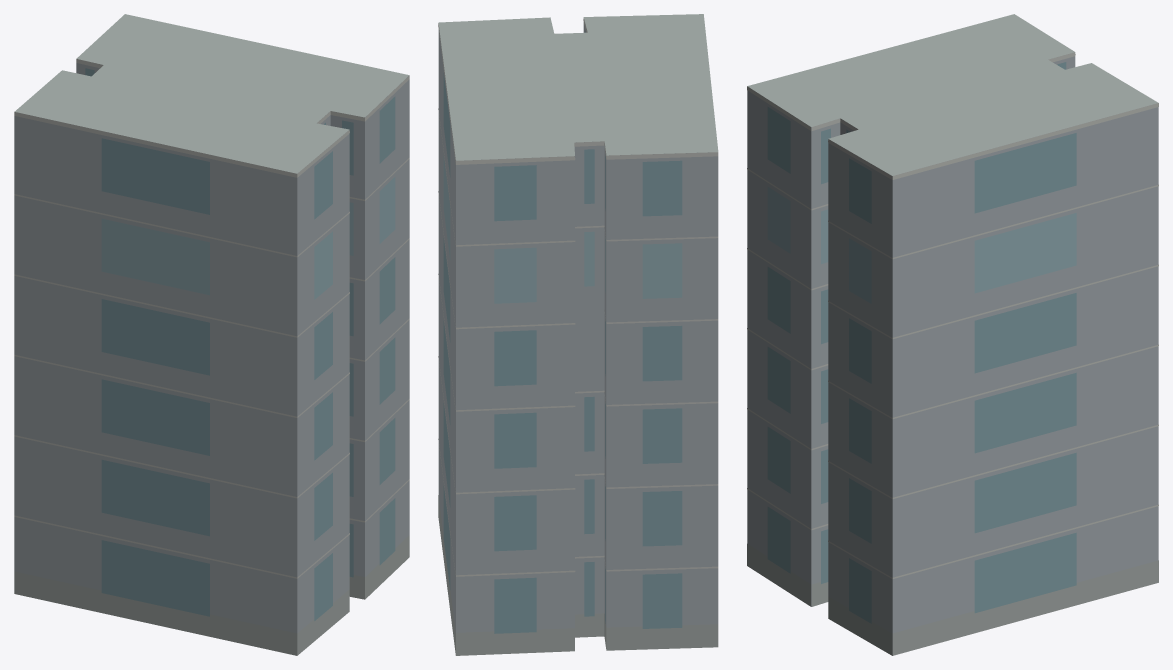
Rendered from survey-upis-32683180.glb.
The picture shows the model from 3 angles, left to right: view 1: azimuth 30°, elevation 25°; view 2: azimuth 150°, elevation 25°; view 3: azimuth 270°, elevation 25°; orthographic projection. The views are drawn at different scales.
Parts seen in each view (by area): view 1: survey-upis-32683180.tmp; view 2: survey-upis-32683180.tmp; view 3: survey-upis-32683180.tmp.
Boxes of the visible parts, box(x1,y1,x2,y2) form: survey-upis-32683180.tmp: box(14, 14, 409, 655); survey-upis-32683180.tmp: box(438, 14, 718, 655); survey-upis-32683180.tmp: box(747, 14, 1158, 655).
Bounding box in the file's own units: 20.89 × 28.8 × 22.41.
